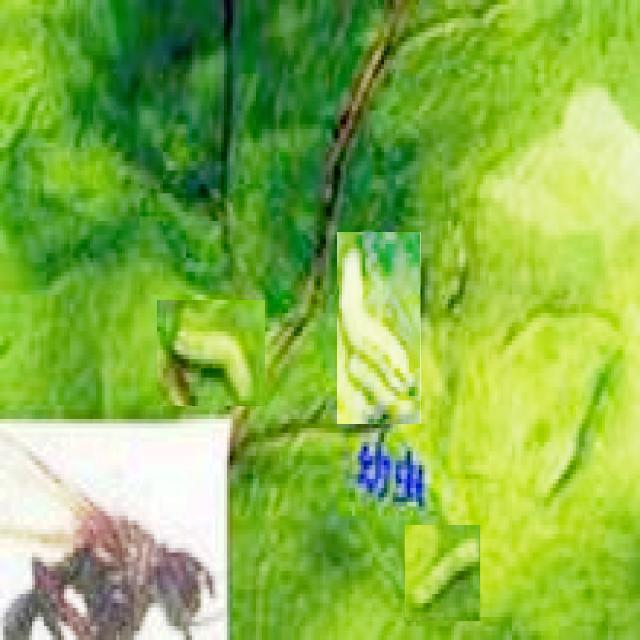whorl-maggot: (338, 232, 422, 424), (157, 300, 265, 406), (406, 525, 482, 621)
